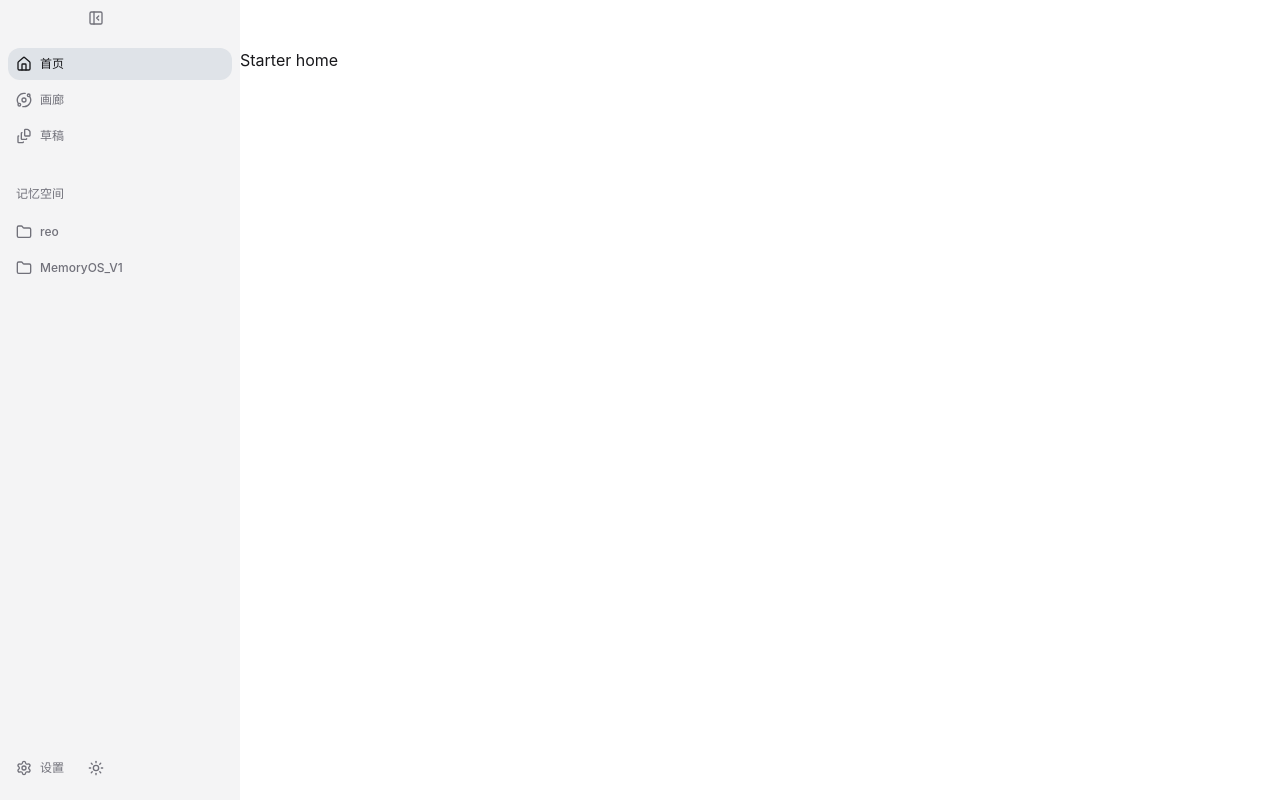
Test: AppShell › cycles theme preference light → dark → system → light from the sidebar tool area
Click the button named "切换到深色模式" at [96, 768], box [80, 752, 112, 784]
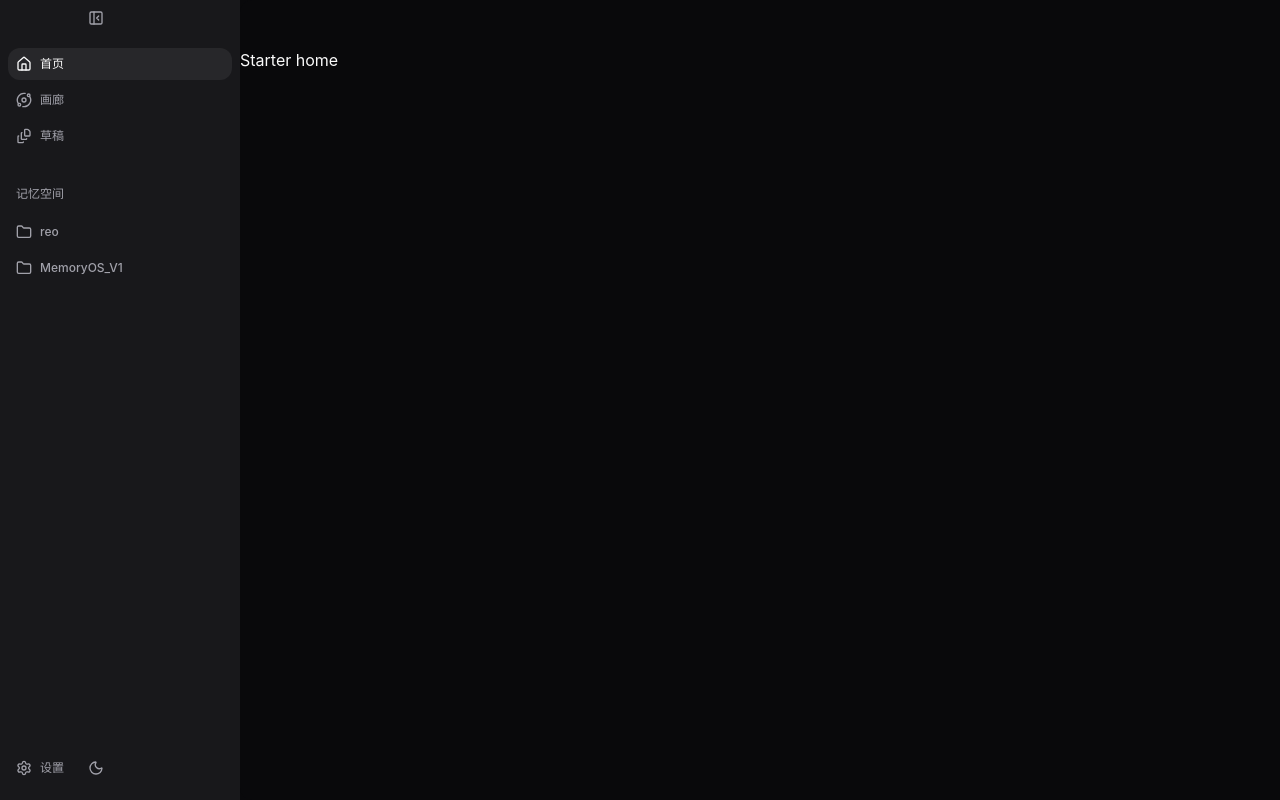
Expected: the element named "记忆空间内容" has attribute data-theme="dark"
Click the button named "切换到跟随系统" at [96, 768], box [80, 752, 112, 784]
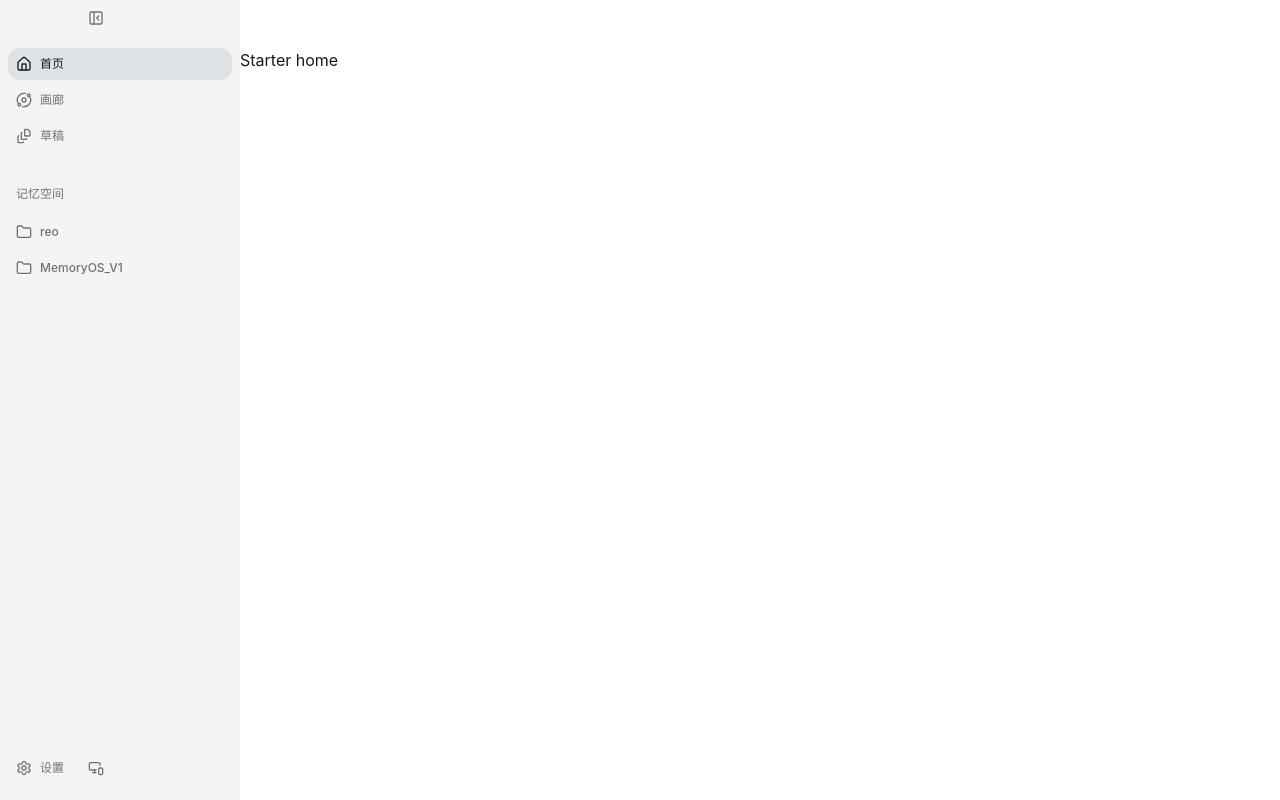
Expected: the button named "切换到浅色模式" is shown
Click the button named "切换到浅色模式" at [96, 768], box [80, 752, 112, 784]
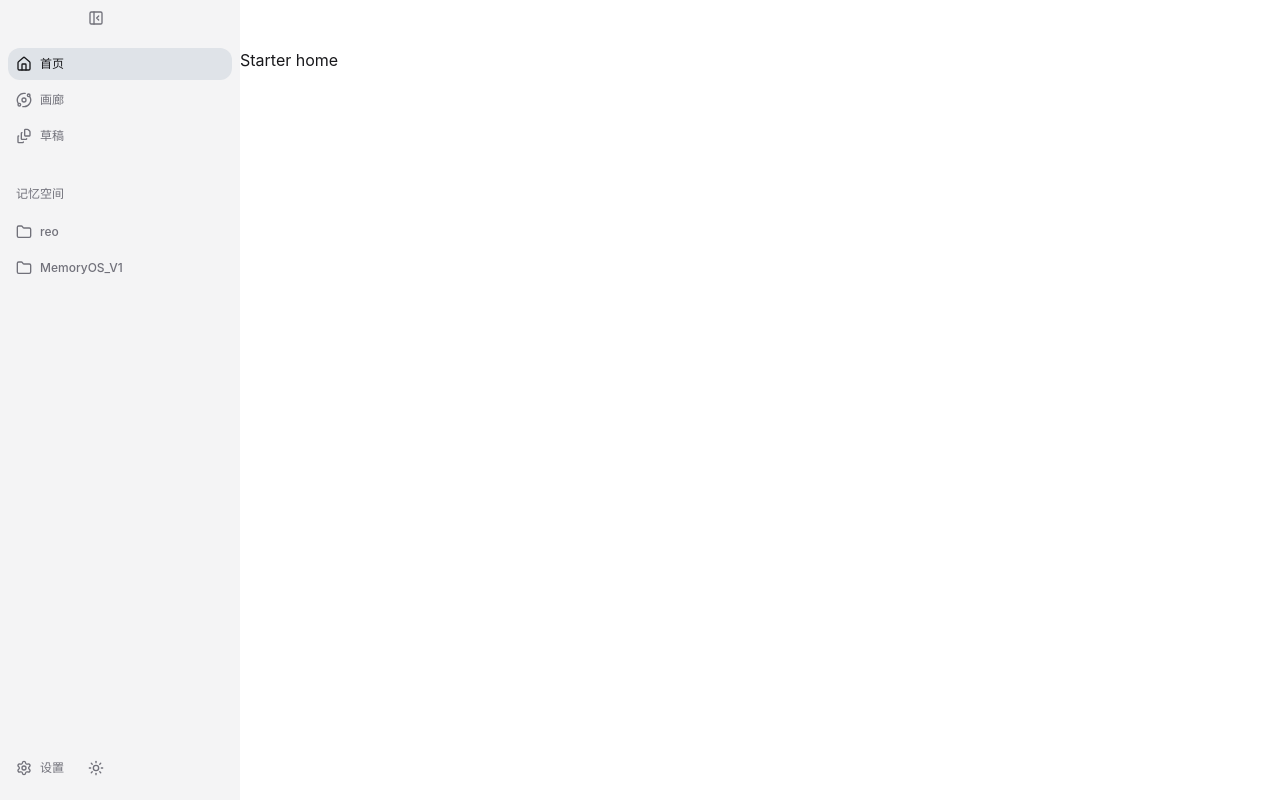
Expected: the button named "切换到深色模式" is shown, [80, 752, 112, 784]
